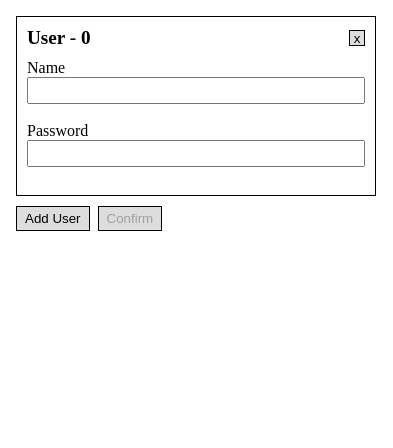
Test: 6. result test
Click the button "Add User" at {"x": 53, "y": 218}, box [16, 206, 90, 231]
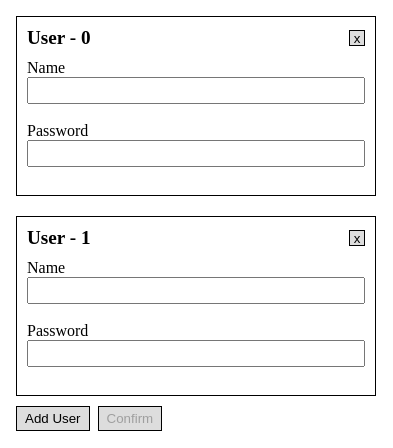
Type "test" into the 1st field with test id "Name" at {"x": 196, "y": 90}, box [27, 77, 365, 104]
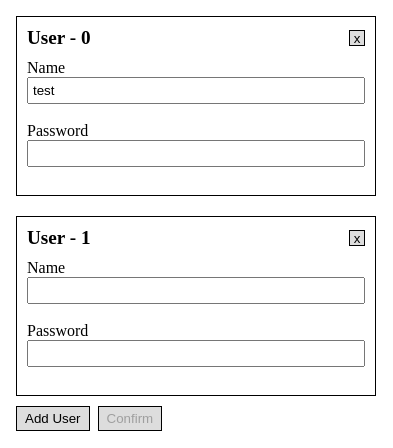
Type "test1" into the 2nd field with test id "Name" at {"x": 196, "y": 290}, box [27, 277, 365, 304]
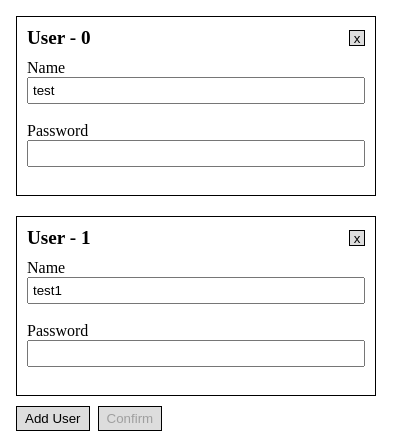
Type "123456" into the 1st field with test id "Password" at {"x": 196, "y": 154}, box [27, 140, 365, 167]
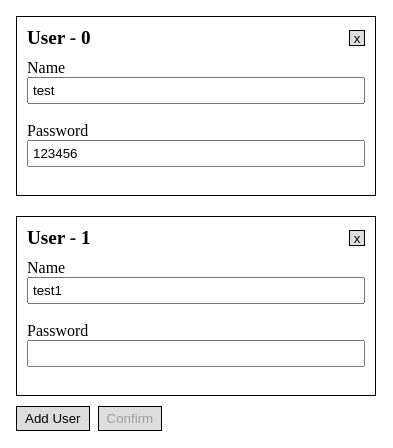
Type "123456" into the 2nd field with test id "Password" at {"x": 196, "y": 354}, box [27, 340, 365, 367]
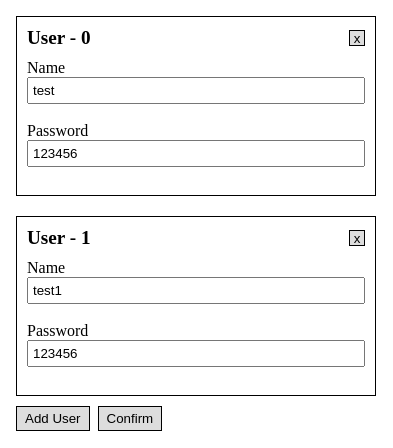
Click the button "Confirm" at {"x": 130, "y": 418}, box [98, 406, 162, 431]
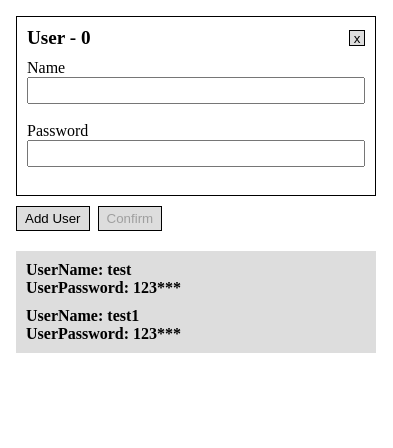
Result: the element with test id "result" is shown at [16, 251, 376, 353]
